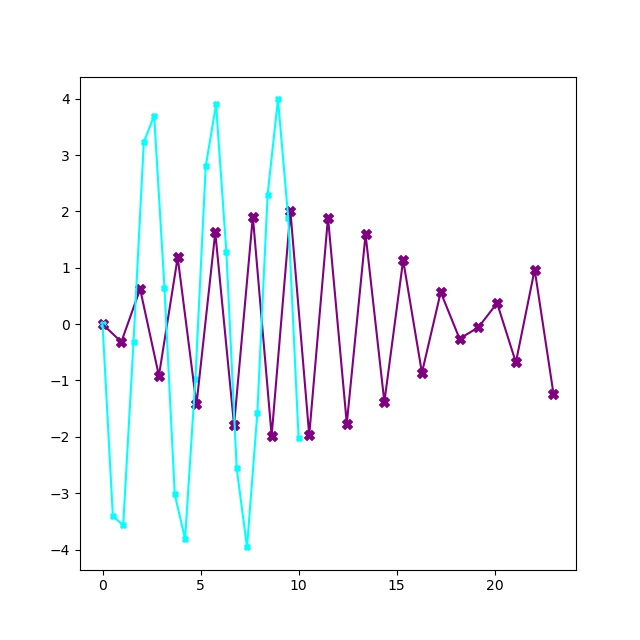Cross: (97, 319, 109, 331), (116, 336, 128, 348), (135, 284, 147, 296), (153, 370, 165, 382), (172, 252, 184, 264), (191, 399, 203, 411), (210, 227, 222, 239), (229, 420, 241, 432), (247, 211, 259, 223), (266, 430, 278, 442), (285, 206, 297, 218), (304, 430, 316, 442), (323, 212, 335, 224), (341, 418, 353, 430), (360, 229, 372, 241), (379, 397, 391, 409), (398, 255, 410, 267), (416, 367, 428, 379), (435, 287, 447, 299), (454, 333, 466, 345), (473, 322, 485, 334), (492, 298, 504, 310), (510, 357, 522, 369), (529, 264, 541, 276), (548, 388, 560, 400), (99, 320, 108, 329), (109, 512, 118, 521), (119, 521, 128, 530), (130, 338, 139, 347), (140, 138, 149, 147), (150, 112, 159, 121), (160, 284, 169, 293), (171, 490, 180, 499), (181, 535, 190, 544), (191, 375, 200, 384), (202, 162, 211, 171), (212, 100, 221, 109), (222, 248, 231, 257), (233, 464, 242, 473), (243, 543, 252, 552), (253, 409, 262, 418), (264, 191, 273, 200), (274, 95, 283, 104), (284, 214, 293, 223), (295, 434, 304, 443)
